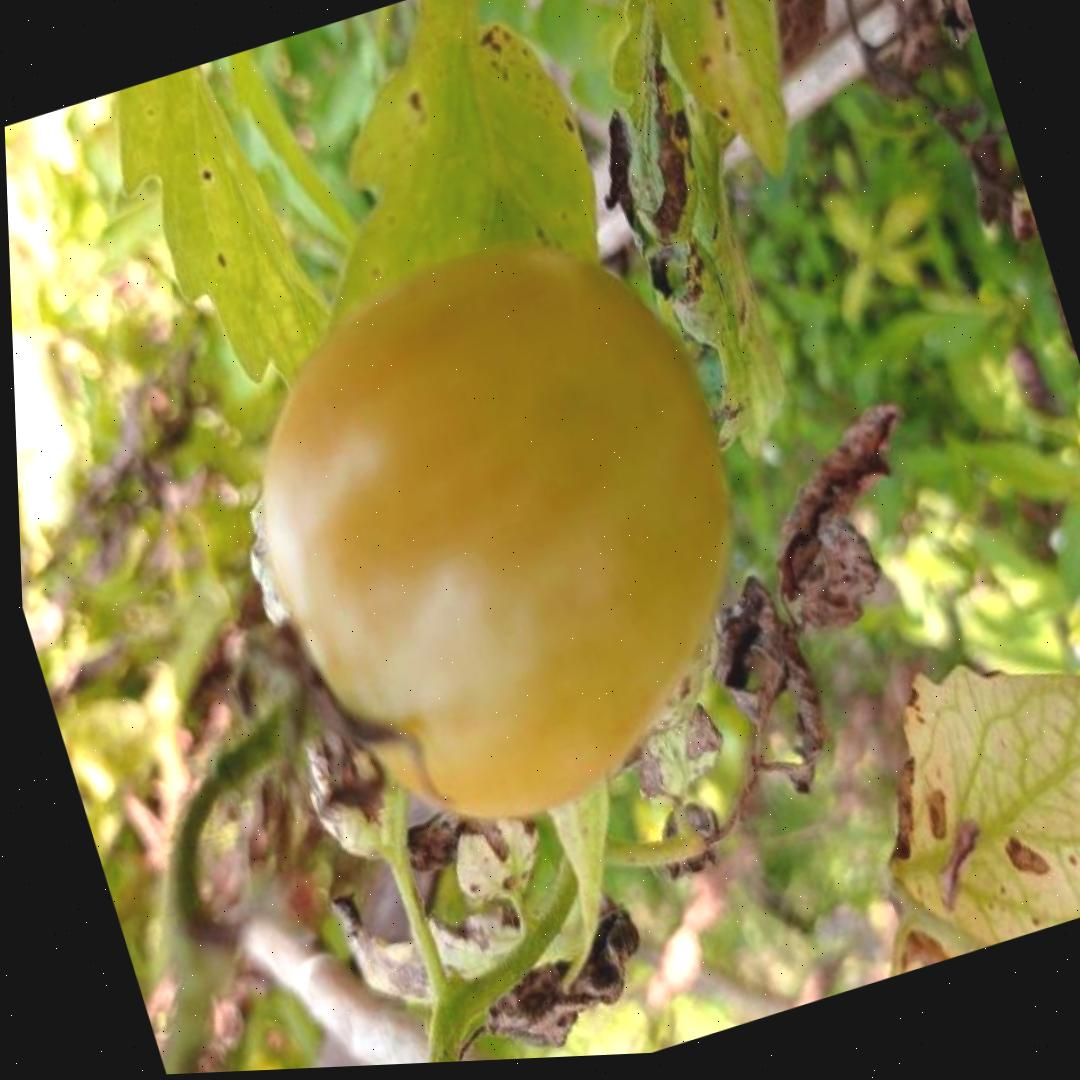setengah_matang: (194, 186, 817, 878)
